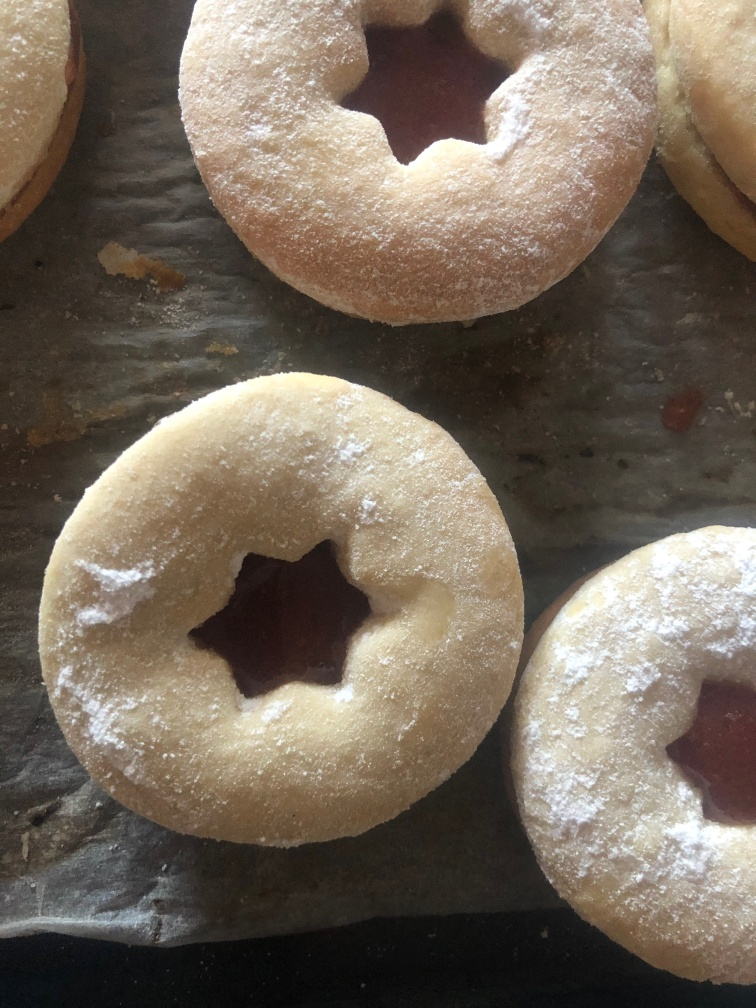christmas shortbread with jam: (37, 369, 529, 847), (184, 1, 664, 321), (521, 520, 756, 989)
